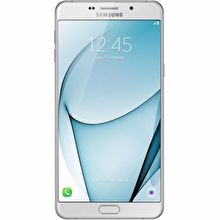phone: (49, 1, 171, 220)
